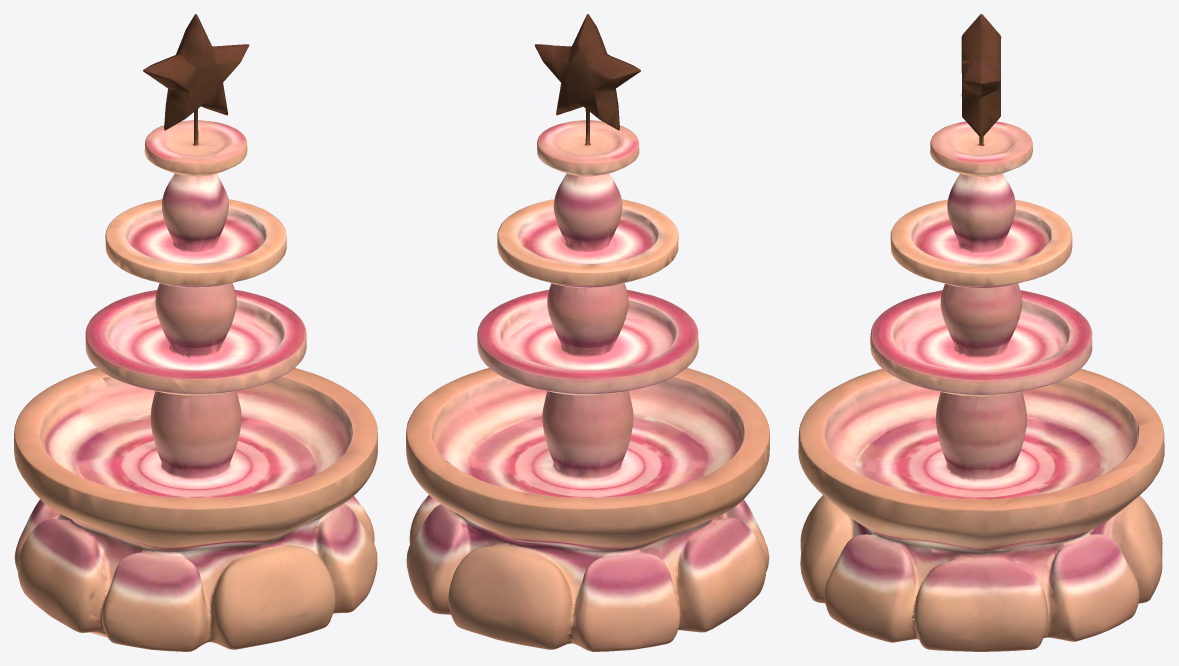
Rendered from clay-star-fountain.glb.
3 views of the same model, side by side, from view 1: azimuth 30°, elevation 25°; view 2: azimuth 150°, elevation 25°; view 3: azimuth 270°, elevation 25° (orthographic).
Size of the model in its own units: 1.12 by 1.91 by 1.12.
1 material, 1 textured.
